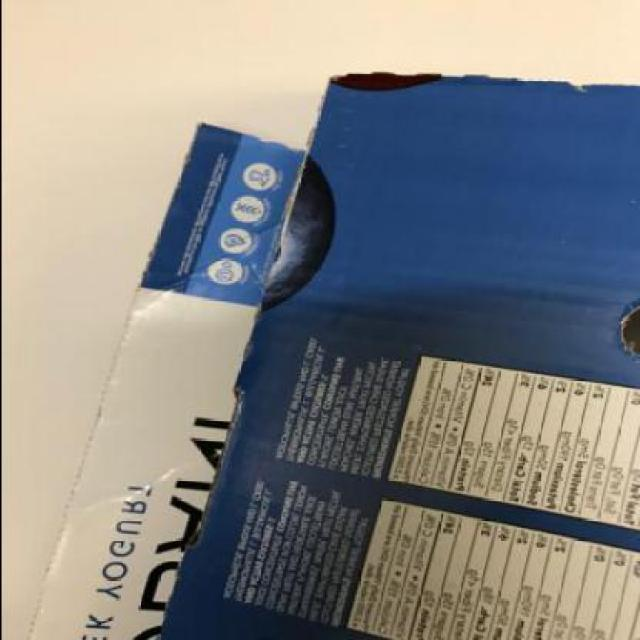CARDBOARD: (27, 74, 640, 640)
